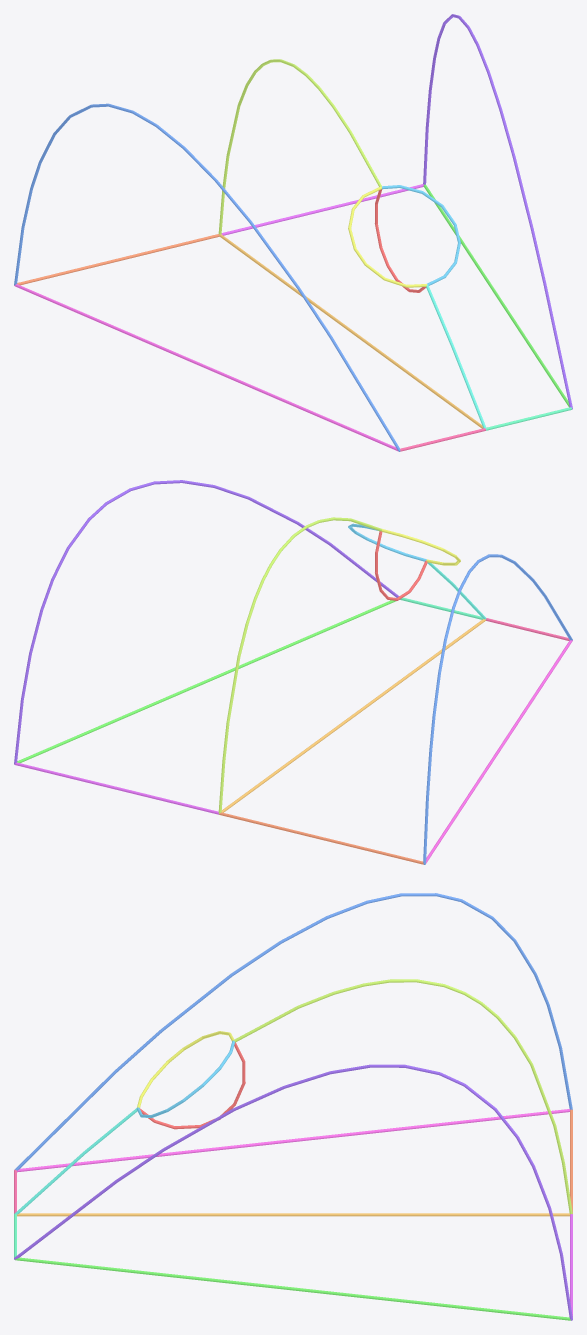
Rendered from onshape_simple_mouse.gltf.
The picture shows the model from 3 angles, top to bottom: view 1: azimuth 30°, elevation 25°; view 2: azimuth 150°, elevation 25°; view 3: azimuth 270°, elevation 25°; orthographic projection. The views are drawn at different scales.
Bounding box in the file's own units: 0.6317 × 0.3329 × 0.7096.
